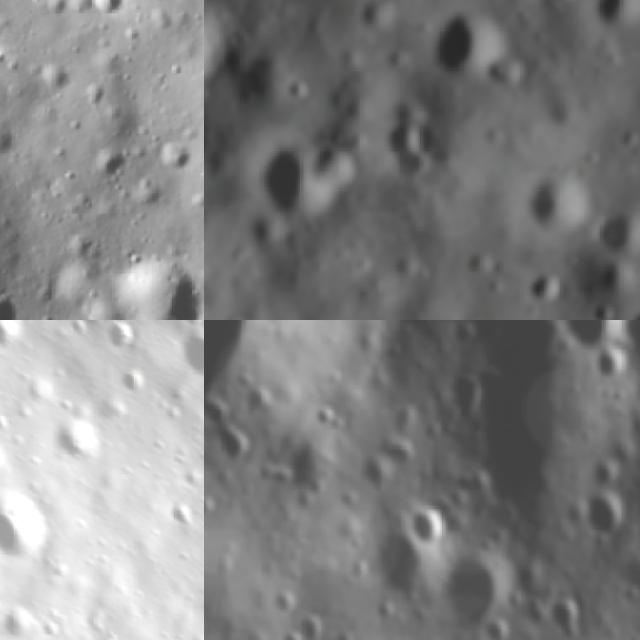crater: (238, 117, 372, 238), (411, 0, 527, 102), (506, 148, 616, 246), (367, 82, 461, 187), (204, 320, 265, 462), (108, 249, 204, 320), (362, 524, 429, 612), (204, 0, 248, 116), (444, 550, 508, 628), (581, 184, 640, 264), (0, 491, 56, 571), (511, 258, 579, 314), (45, 410, 105, 464), (586, 243, 639, 297), (555, 320, 636, 355), (574, 0, 640, 40), (577, 492, 623, 547), (350, 0, 408, 35), (148, 136, 198, 176), (545, 595, 588, 640), (405, 504, 447, 546), (88, 149, 132, 186), (358, 456, 397, 497), (113, 365, 154, 403), (592, 349, 626, 393), (178, 327, 204, 384), (581, 287, 622, 320), (103, 320, 140, 356), (0, 320, 27, 366), (0, 607, 36, 640), (294, 611, 334, 640), (162, 496, 194, 532), (478, 612, 519, 640), (0, 282, 29, 320), (270, 586, 302, 620), (588, 460, 620, 494), (0, 125, 24, 165), (83, 0, 128, 21), (533, 0, 586, 17)
